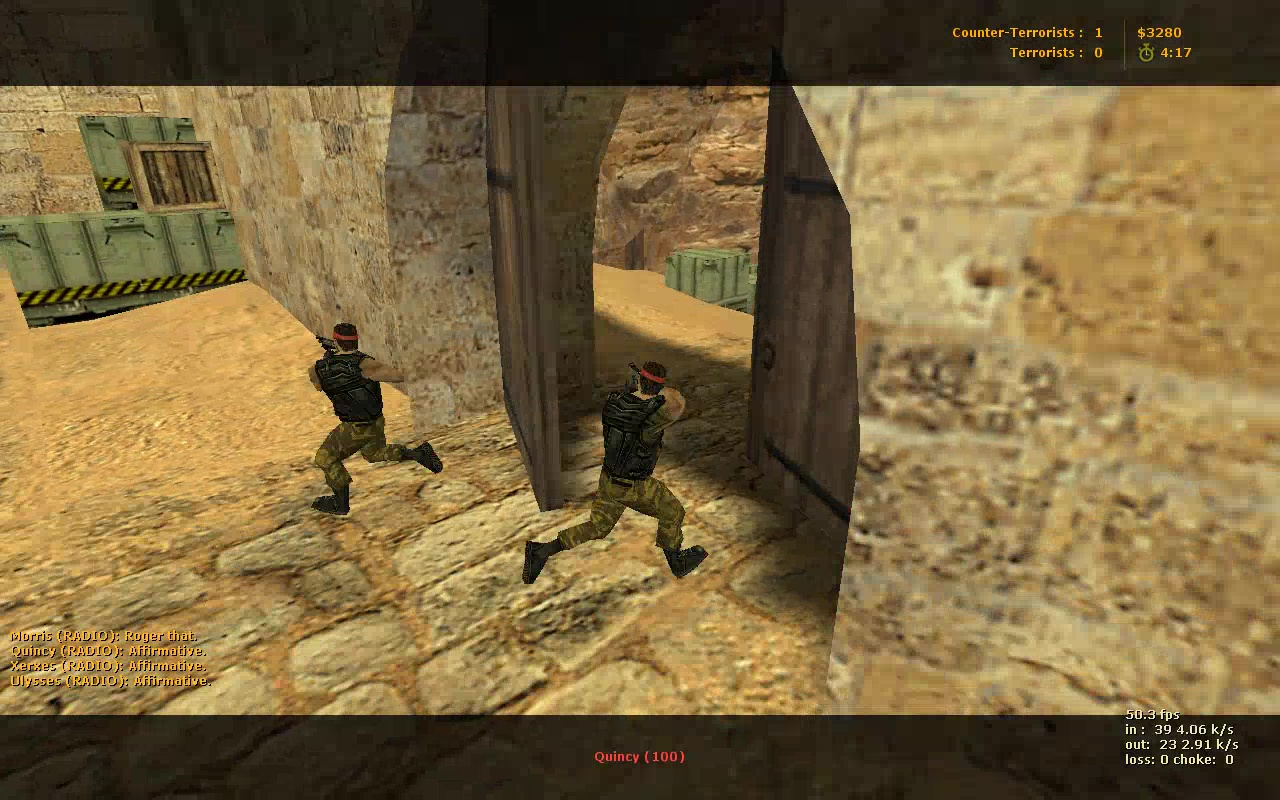terr1: (520, 361, 710, 587), (309, 325, 444, 511)
